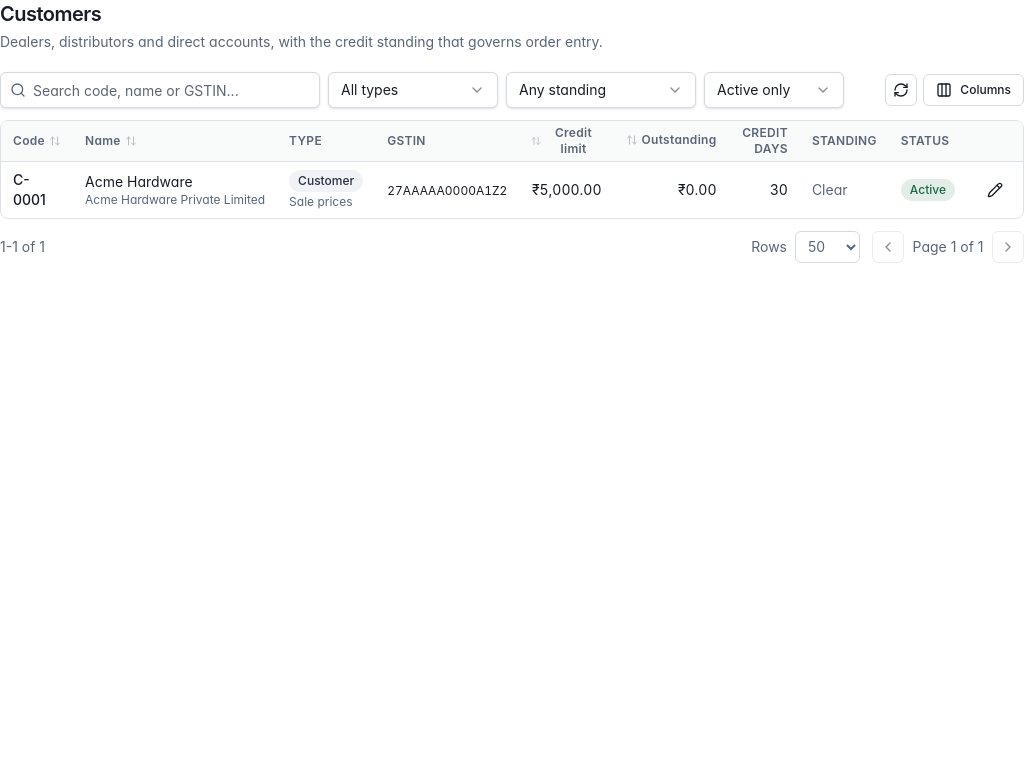
what the account form sends › locks the code on an edit, because documents already quote it
Click the button named "Edit C-0001": x=995, y=190 left=979, top=174, right=1011, bottom=206
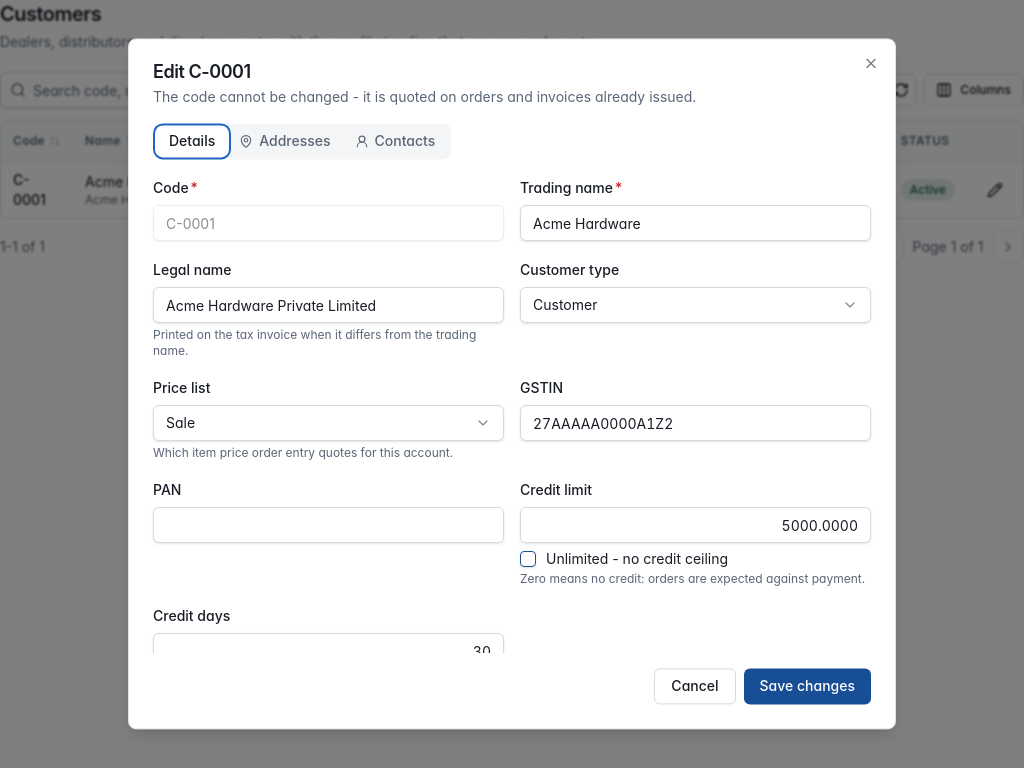
expect the dialog is shown: met
expect the field labelled "Code*" is disabled: met, box left=153, top=205, right=504, bottom=241
